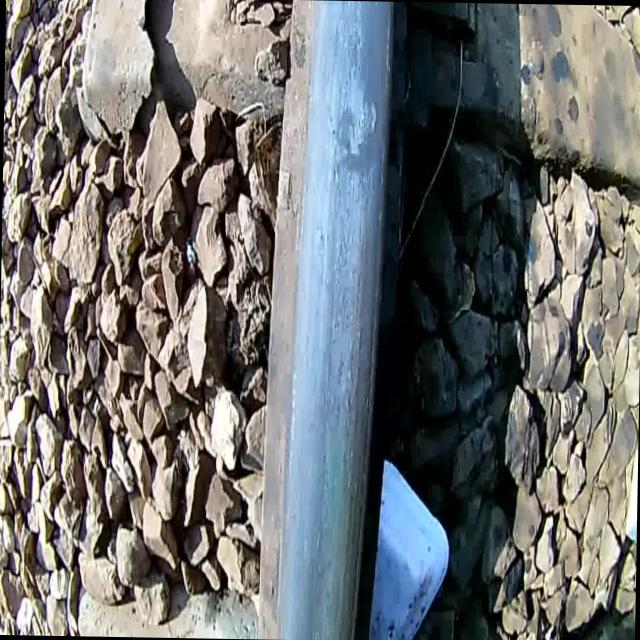Squats: (275, 0, 400, 189), (264, 529, 373, 640)
